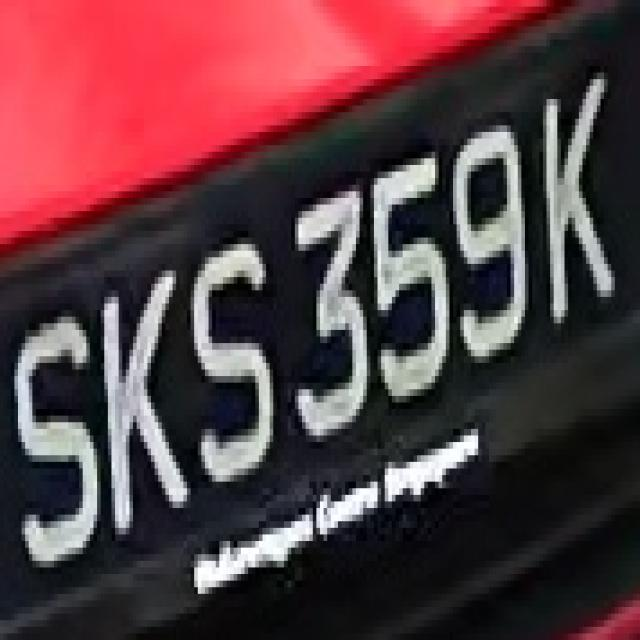3: (280, 172, 367, 475)
5: (363, 145, 460, 403)
9: (446, 112, 532, 383)
K: (97, 251, 194, 561), (525, 46, 615, 337)
S: (11, 297, 111, 614), (180, 231, 277, 488)
